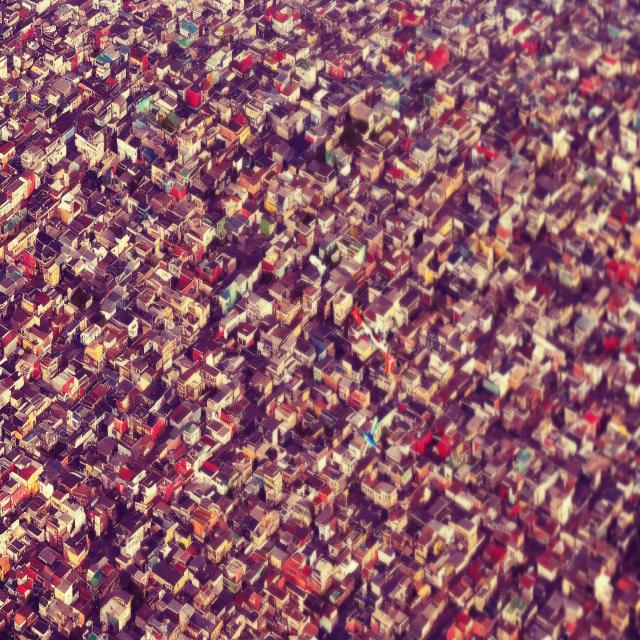airplane: (350, 307, 400, 375), (358, 417, 383, 459)
